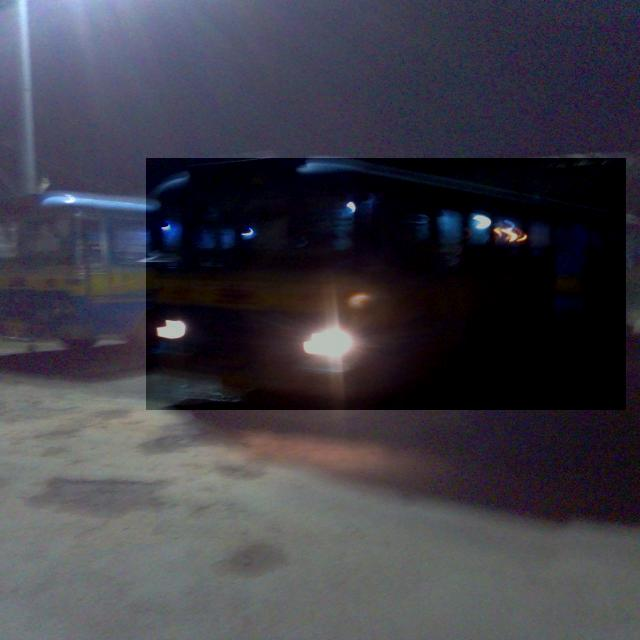Bus: (146, 158, 626, 410)
